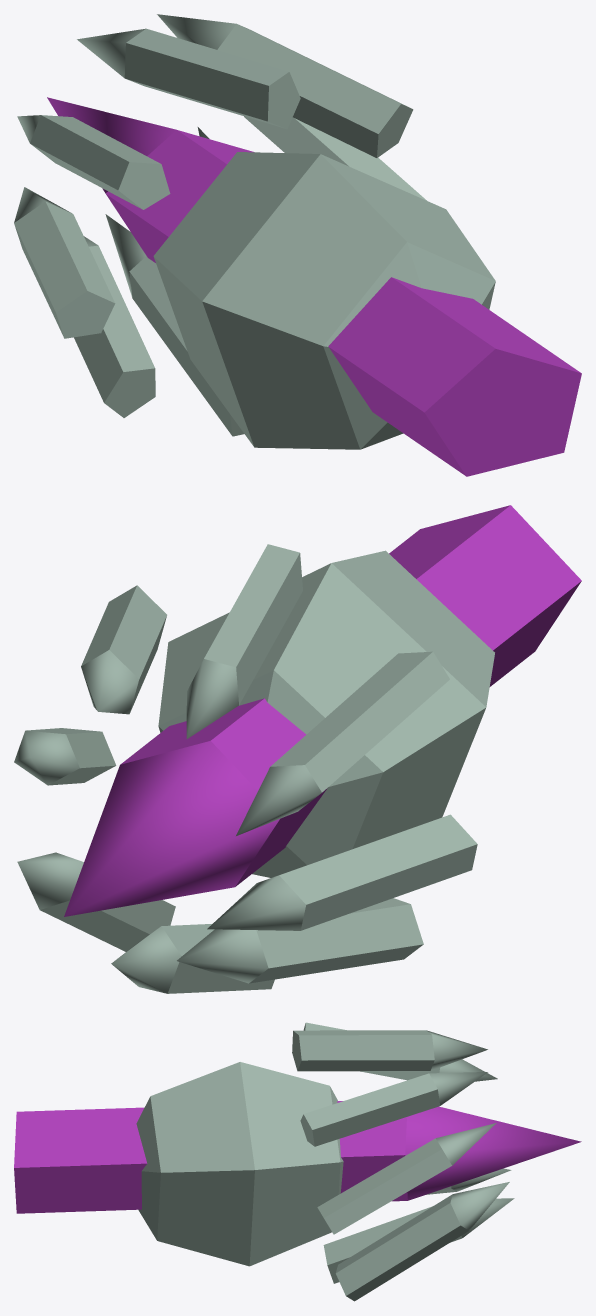
File: ammo_crystal_cluster_austin.fbx
The picture shows the model from 3 angles, top to bottom: view 1: azimuth 30°, elevation 25°; view 2: azimuth 150°, elevation 25°; view 3: azimuth 270°, elevation 25°; orthographic projection. The views are drawn at different scales.
Parts seen in each view (by area): view 1: ammo_crystal_cluster_austin; view 2: ammo_crystal_cluster_austin; view 3: ammo_crystal_cluster_austin.
Boxes of the visible parts, x1,y1,x2,y2 form: ammo_crystal_cluster_austin: (14, 14, 581, 476); ammo_crystal_cluster_austin: (14, 505, 581, 993); ammo_crystal_cluster_austin: (14, 1022, 581, 1301).
Bounding box in the file's own units: 2.77 × 2.61 × 5.38.
